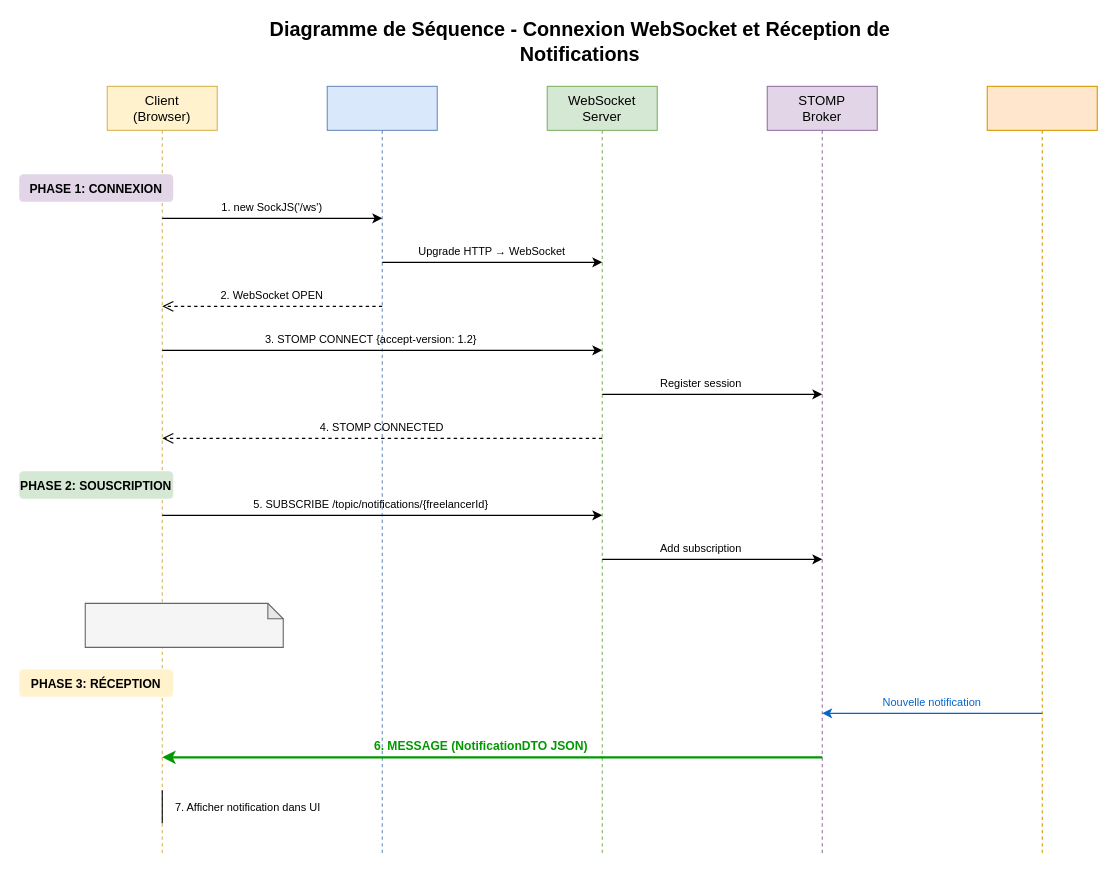
The diagram is 1117 pixels wide and 876 high, and some of its shapes have lost their labels. Here are the shapes that lost their labels. From the top down, the box of each, then its label:
(326, 85, 437, 856): SockJS Handler
(986, 85, 1097, 856): Notification Service
(84, 602, 283, 647): CLIENT EN ATTENTE DE MESSAGES...
